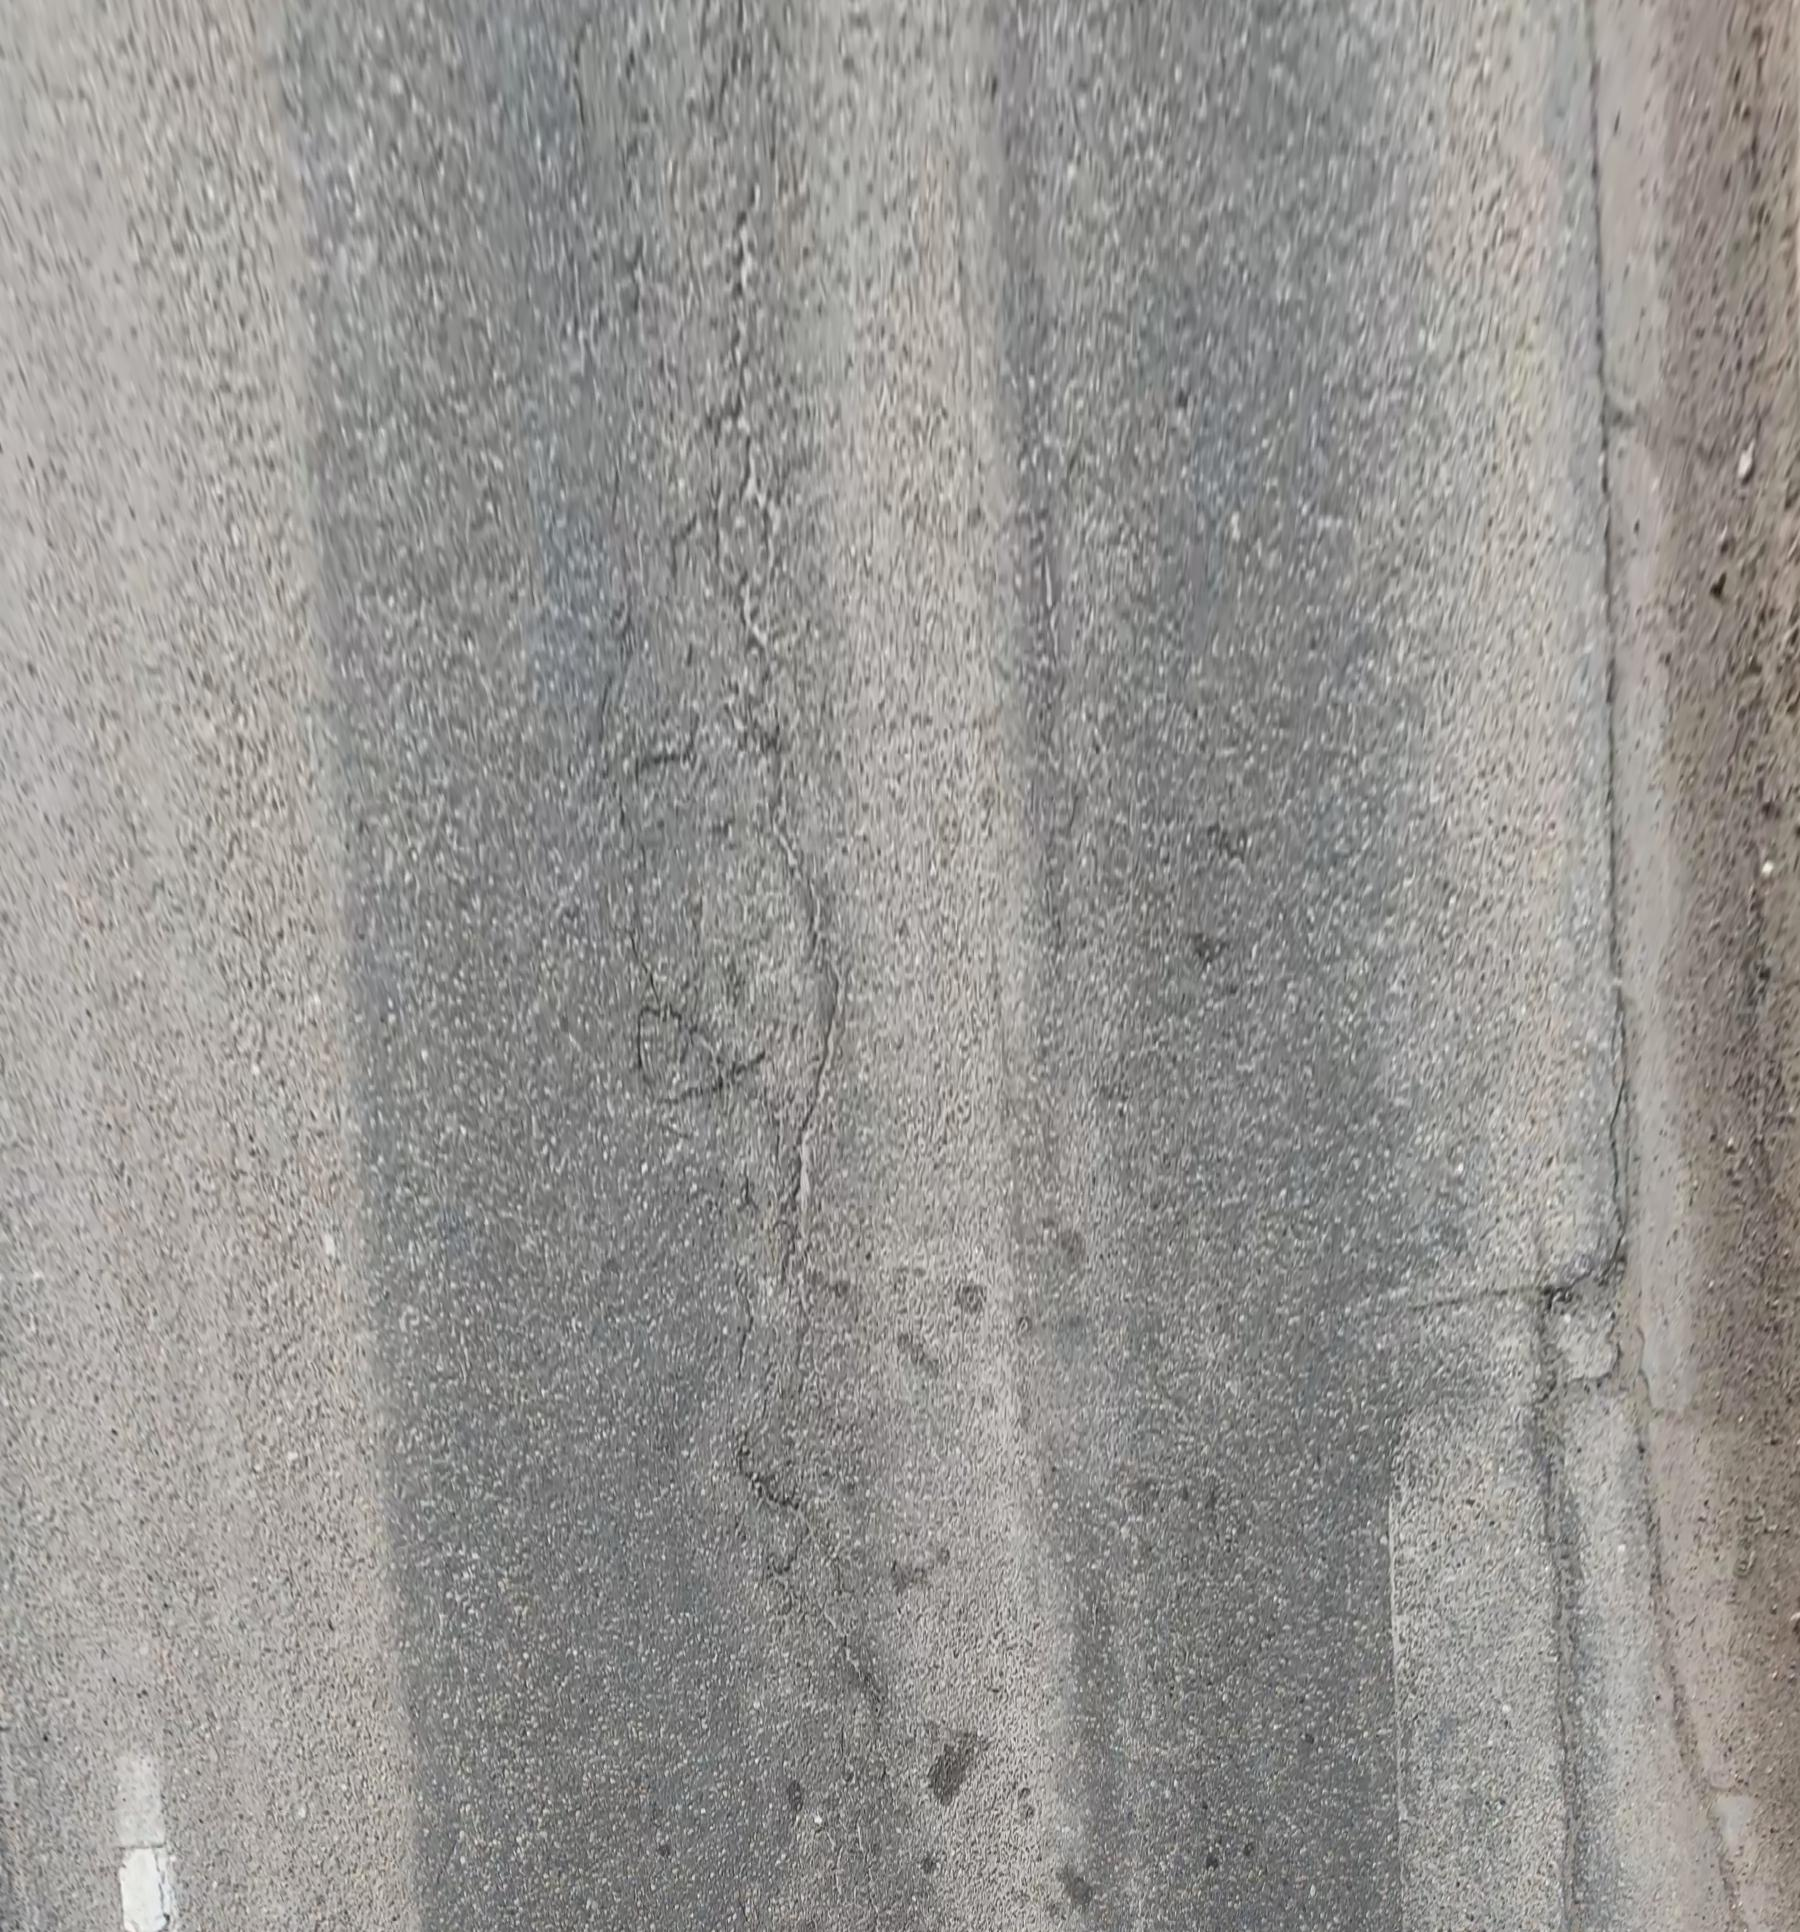pothole: (1563, 1225, 1649, 1421)
